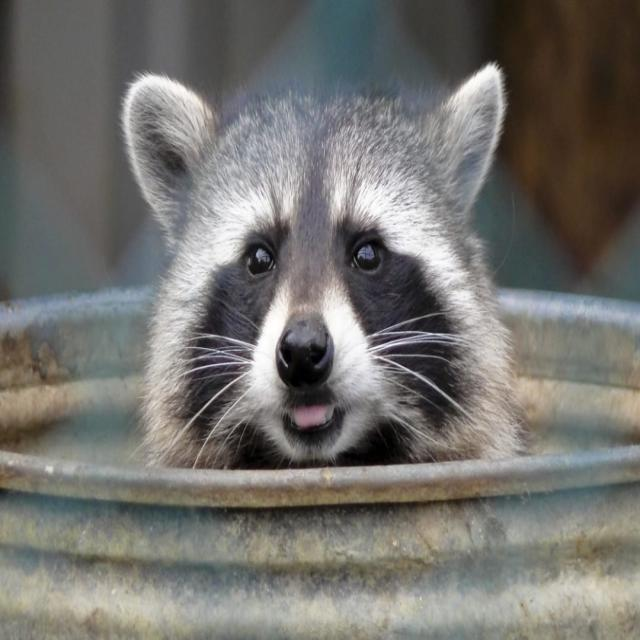Raccoon: (116, 52, 517, 492)
